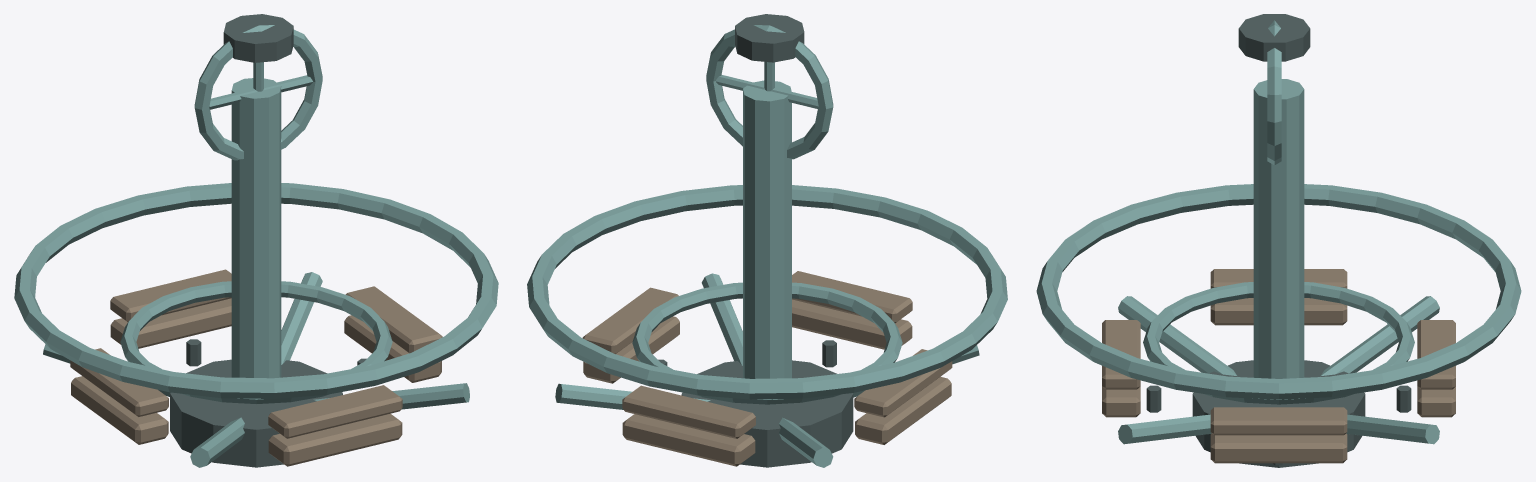
The model's file is playground-roundabout.glb.
3 renders of one model, left to right at view 1: azimuth 30°, elevation 25°; view 2: azimuth 150°, elevation 25°; view 3: azimuth 270°, elevation 25°, orthographic.
Parts seen in each view (by area): view 1: Roundabout_Outer_Rail, Roundabout_Central_Pole, Roundabout_Base_Hub, Roundabout_Inner_Rail, Roundabout_Hand_Wheel, Roundabout_Seat_4_Slat_B, Roundabout_Seat_4_Slat_A, Roundabout_Seat_2_Slat_A, Roundabout_Pole_Cap, Roundabout_Seat_3_Slat_A, Roundabout_Seat_1_Slat_B, Roundabout_Seat_2_Slat_B (+5 smaller); view 2: Roundabout_Outer_Rail, Roundabout_Central_Pole, Roundabout_Base_Hub, Roundabout_Inner_Rail, Roundabout_Hand_Wheel, Roundabout_Seat_2_Slat_B, Roundabout_Seat_2_Slat_A, Roundabout_Seat_4_Slat_A, Roundabout_Pole_Cap, Roundabout_Seat_3_Slat_A, Roundabout_Seat_1_Slat_B, Roundabout_Seat_4_Slat_B (+5 smaller); view 3: Roundabout_Outer_Rail, Roundabout_Central_Pole, Roundabout_Inner_Rail, Roundabout_Seat_1_Slat_A, Roundabout_Seat_1_Slat_B, Roundabout_Base_Hub, Roundabout_Pole_Cap, Roundabout_Low_Radial_Arm_2, Roundabout_Low_Radial_Arm_3, Roundabout_Seat_3_Slat_A, Roundabout_Seat_2_Slat_B, Roundabout_Seat_4_Slat_B (+6 smaller).
Part boxes in pixels (<box>): Roundabout_Outer_Rail: <box>14,183,498,398</box>; Roundabout_Central_Pole: <box>231,78,281,378</box>; Roundabout_Base_Hub: <box>170,359,342,467</box>; Roundabout_Inner_Rail: <box>120,281,392,403</box>; Roundabout_Hand_Wheel: <box>194,25,322,160</box>; Roundabout_Seat_4_Slat_B: <box>268,385,402,438</box>; Roundabout_Seat_4_Slat_A: <box>268,413,402,466</box>; Roundabout_Seat_2_Slat_A: <box>110,298,231,348</box>; Roundabout_Pole_Cap: <box>223,14,293,62</box>; Roundabout_Seat_3_Slat_A: <box>71,376,168,444</box>; Roundabout_Seat_1_Slat_B: <box>345,286,442,353</box>; Roundabout_Seat_2_Slat_B: <box>110,269,231,321</box>; Roundabout_Outer_Rail: <box>527,185,1007,399</box>; Roundabout_Central_Pole: <box>743,80,791,378</box>; Roundabout_Base_Hub: <box>681,360,853,467</box>; Roundabout_Inner_Rail: <box>632,282,902,404</box>; Roundabout_Hand_Wheel: <box>706,25,833,159</box>; Roundabout_Seat_2_Slat_B: <box>622,385,755,438</box>; Roundabout_Seat_2_Slat_A: <box>622,414,755,466</box>; Roundabout_Seat_4_Slat_A: <box>792,299,912,349</box>; Roundabout_Pole_Cap: <box>735,14,804,62</box>; Roundabout_Seat_3_Slat_A: <box>855,376,951,444</box>; Roundabout_Seat_1_Slat_B: <box>582,287,678,353</box>; Roundabout_Seat_4_Slat_B: <box>792,271,912,323</box>; Roundabout_Outer_Rail: <box>1036,184,1521,399</box>; Roundabout_Central_Pole: <box>1253,79,1304,378</box>; Roundabout_Inner_Rail: <box>1143,282,1414,404</box>; Roundabout_Seat_1_Slat_A: <box>1210,433,1347,463</box>; Roundabout_Seat_1_Slat_B: <box>1210,407,1347,435</box>; Roundabout_Base_Hub: <box>1192,360,1365,467</box>; Roundabout_Pole_Cap: <box>1238,14,1310,61</box>; Roundabout_Low_Radial_Arm_2: <box>1321,296,1439,375</box>; Roundabout_Low_Radial_Arm_3: <box>1118,296,1236,375</box>; Roundabout_Seat_3_Slat_A: <box>1210,298,1347,325</box>; Roundabout_Seat_2_Slat_B: <box>1417,320,1455,389</box>; Roundabout_Seat_4_Slat_B: <box>1102,320,1140,389</box>.
Bounding box in the file's own units: 1.63 × 1.51 × 1.63.
